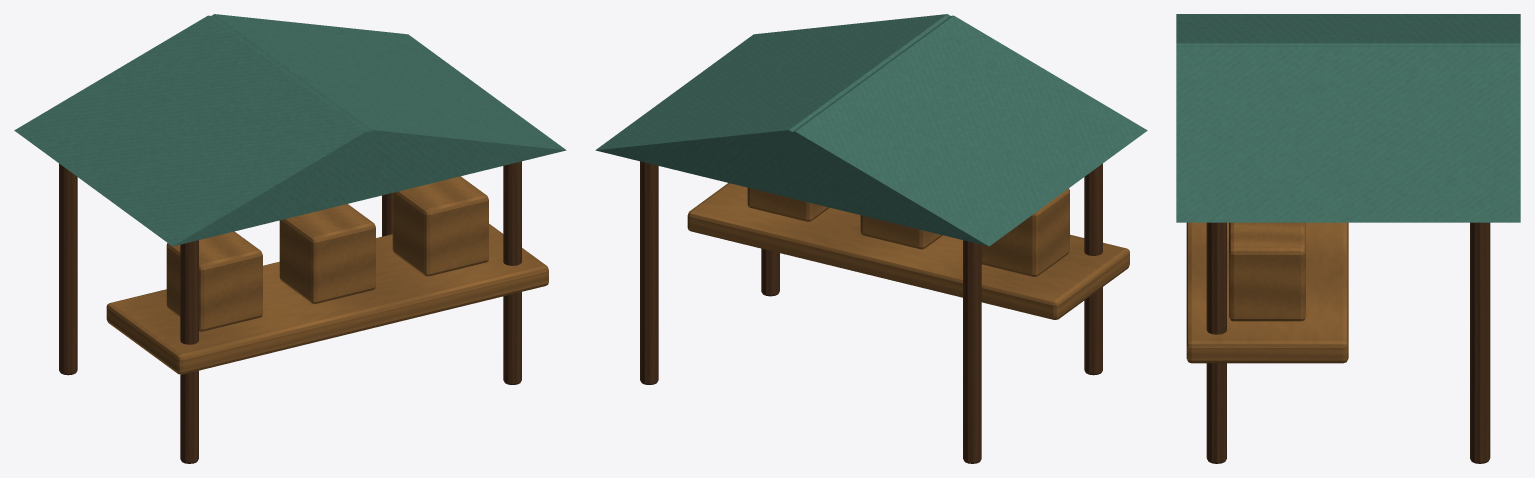
Rendered from market.glb.
3 renders of one model, left to right at view 1: azimuth 30°, elevation 25°; view 2: azimuth 150°, elevation 25°; view 3: azimuth 270°, elevation 25°, orthographic. The views are drawn at different scales.
Parts seen in each view (by area): view 1: awning, awning.001, counter, crate.001, crate.002, crate, post.001, post, post.002; view 2: awning, awning.001, counter, crate, post.001, post.003, post, crate.001, crate.002, post.002; view 3: awning.001, counter, awning, crate.002, post.003, post.002.
Part boxes in pixels (x1,y1,x2,y2): awning: (14, 15, 558, 246); awning.001: (183, 14, 566, 243); counter: (106, 224, 548, 374); crate.001: (279, 204, 375, 303); crate.002: (392, 176, 488, 276); crate: (166, 231, 262, 331); post.001: (59, 163, 77, 375); post: (180, 240, 198, 463); post.002: (503, 161, 521, 384); awning: (603, 15, 1147, 246); awning.001: (595, 14, 978, 243); counter: (687, 183, 1129, 319); crate: (981, 188, 1069, 276); post.001: (963, 240, 981, 463); post.003: (640, 161, 658, 384); post: (1084, 163, 1102, 375); crate.001: (860, 215, 942, 249); crate.002: (747, 187, 829, 221); post.002: (761, 248, 779, 296); awning.001: (1176, 46, 1520, 222); counter: (1186, 222, 1348, 363); awning: (1176, 14, 1520, 46); crate.002: (1229, 222, 1305, 321); post.003: (1470, 222, 1490, 463); post.002: (1206, 222, 1226, 463).
Bounding box in the file's own units: 2.44 × 1.8 × 1.7.
3 materials, 3 textured.
